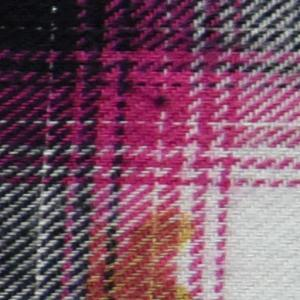Stain: (78, 204, 206, 300)
